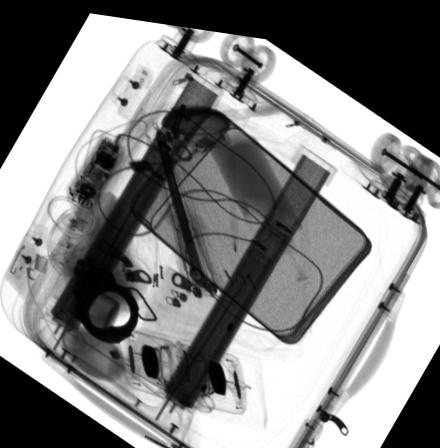HandCuffs: (69, 253, 140, 342)
